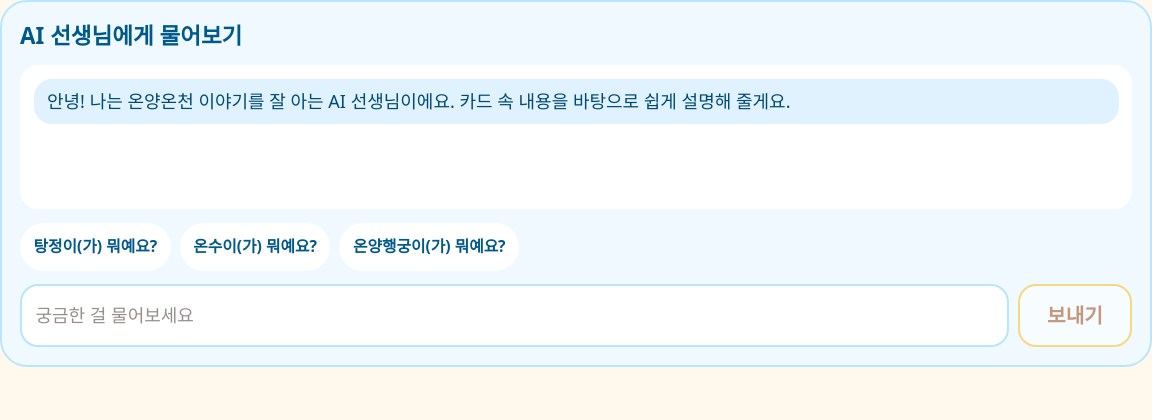
Test case: ChatPanel › 추천 질문을 누르면 서버에 보내고 답변과 새 추천 질문을 보여 준다
Click the button "탕정이(가) 뭐예요?". click: click(95, 246)
box: [20,222,171,270]
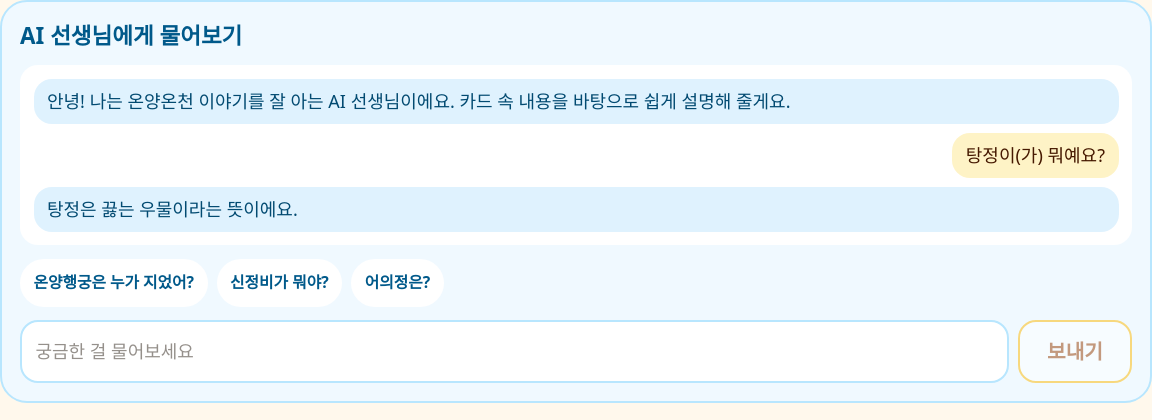
Check: the text "탕정은 끓는 우물이라는 뜻이에요." is shown, box [34,186,1118,232]
Check: the button "신정비가 뭐야?" is shown, box [217,258,342,306]
